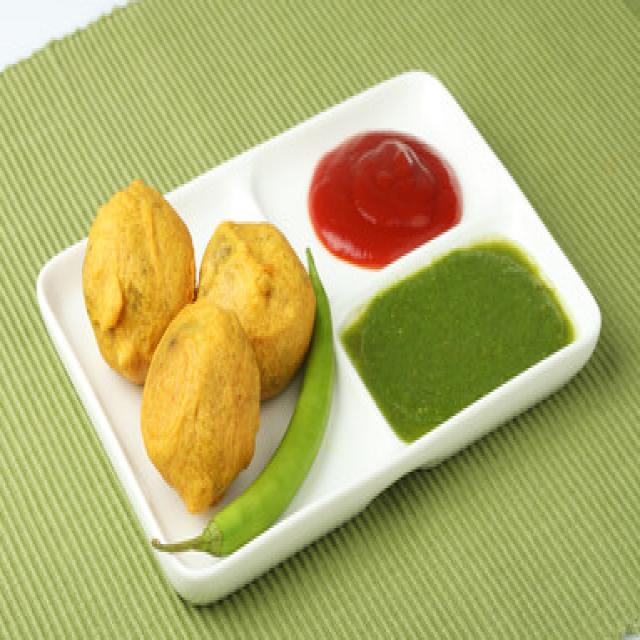BONDA: (82, 181, 311, 512)
GREEN CHUTNEY: (341, 245, 568, 440)
SAUCE: (309, 133, 460, 267)
